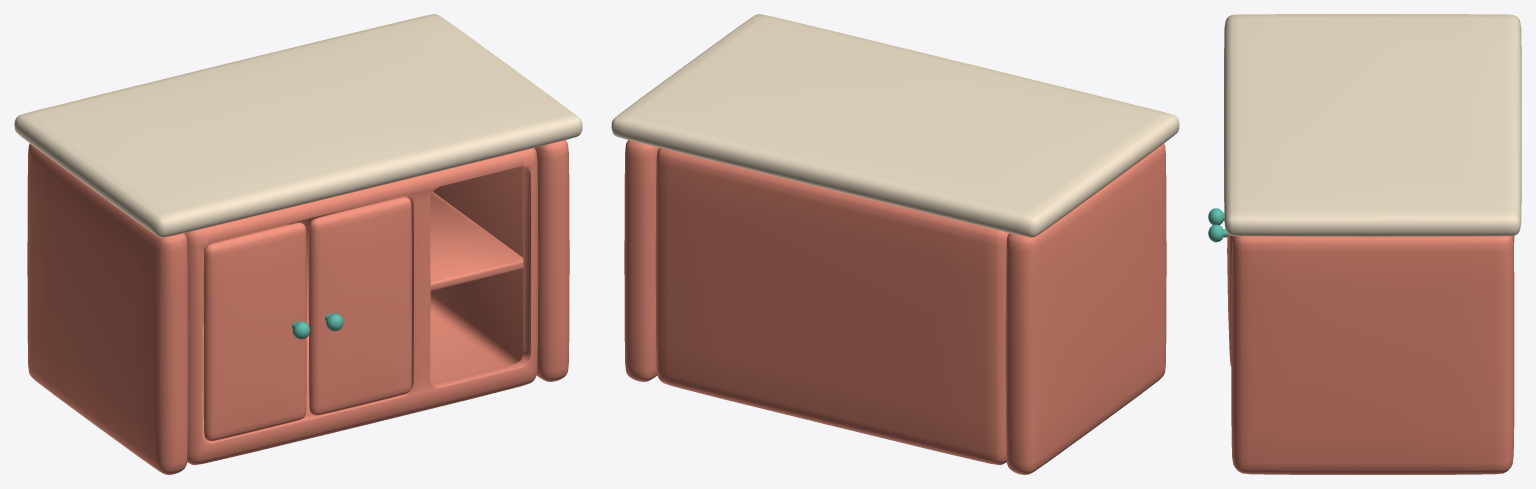
The model's file is island_c.glb.
3 views of the same model, side by side, from view 1: azimuth 30°, elevation 25°; view 2: azimuth 150°, elevation 25°; view 3: azimuth 270°, elevation 25° (orthographic).
Parts seen in each view (by area): view 1: body, door_l, door_r; view 2: body; view 3: body, door_r.
Part boxes in pixels (x1,y1,x2,y2): body: (14,14,582,474); door_l: (203,222,309,441); door_r: (309,197,411,415); body: (611,14,1179,474); body: (1224,14,1521,474); door_r: (1208,224,1232,366).
Bounding box in the file's own units: 1.54 × 0.925 × 0.979.
